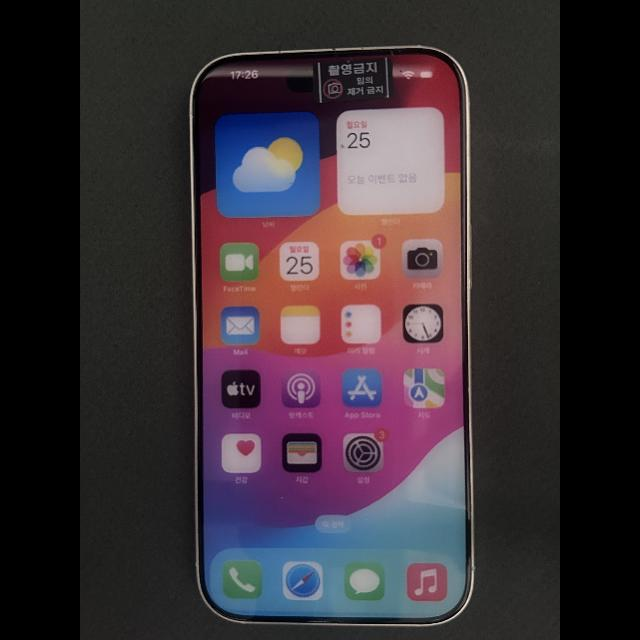phone: (189, 45, 475, 627)
sticker: (312, 57, 394, 103)
